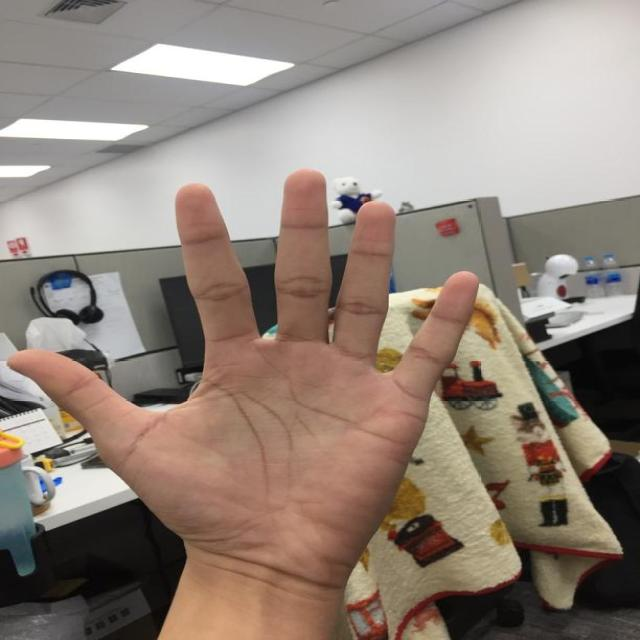hand: (9, 167, 479, 582)
